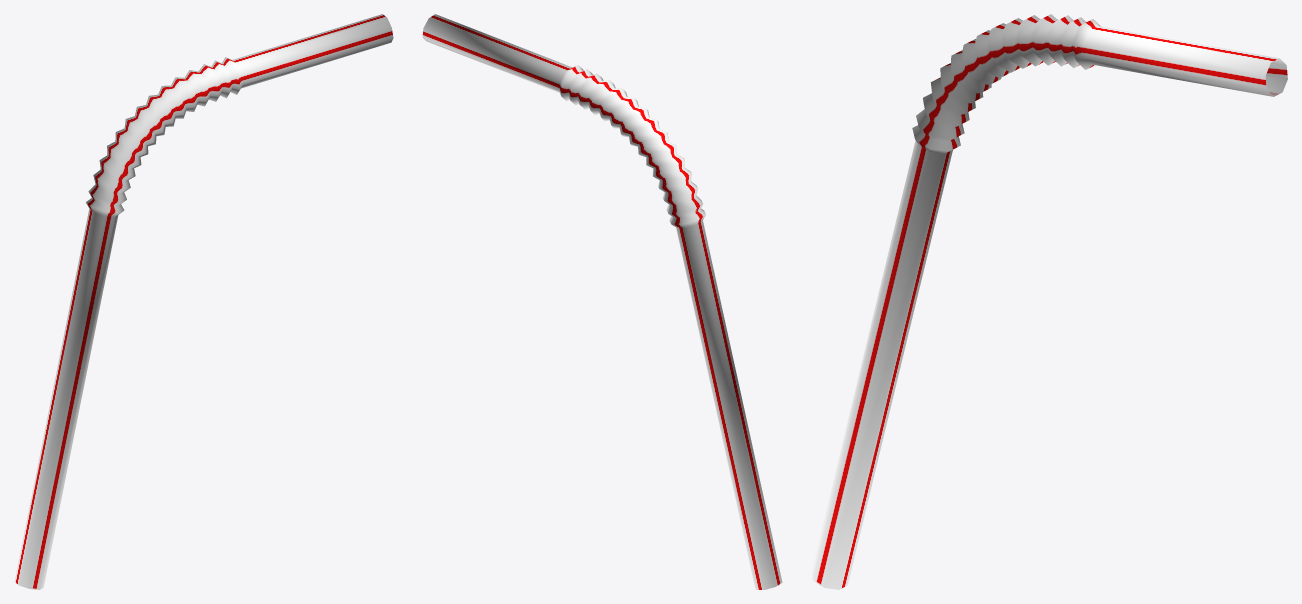
File: straw_final.obj
The picture shows the model from 3 angles, left to right: view 1: azimuth 30°, elevation 25°; view 2: azimuth 150°, elevation 25°; view 3: azimuth 330°, elevation 25°; orthographic projection. The views are drawn at different scales.
Parts seen in each view (by area): view 1: Cylinder; view 2: Cylinder; view 3: Cylinder.
Part boxes in pixels (left/top/right/bottom): Cylinder: left=14, top=14, right=393, bottom=589; Cylinder: left=422, top=14, right=782, bottom=589; Cylinder: left=811, top=14, right=1287, bottom=589.
Bounding box in the file's own units: 28.06 × 36.17 × 3.62.
Materials: 1 (1 with a texture image).
